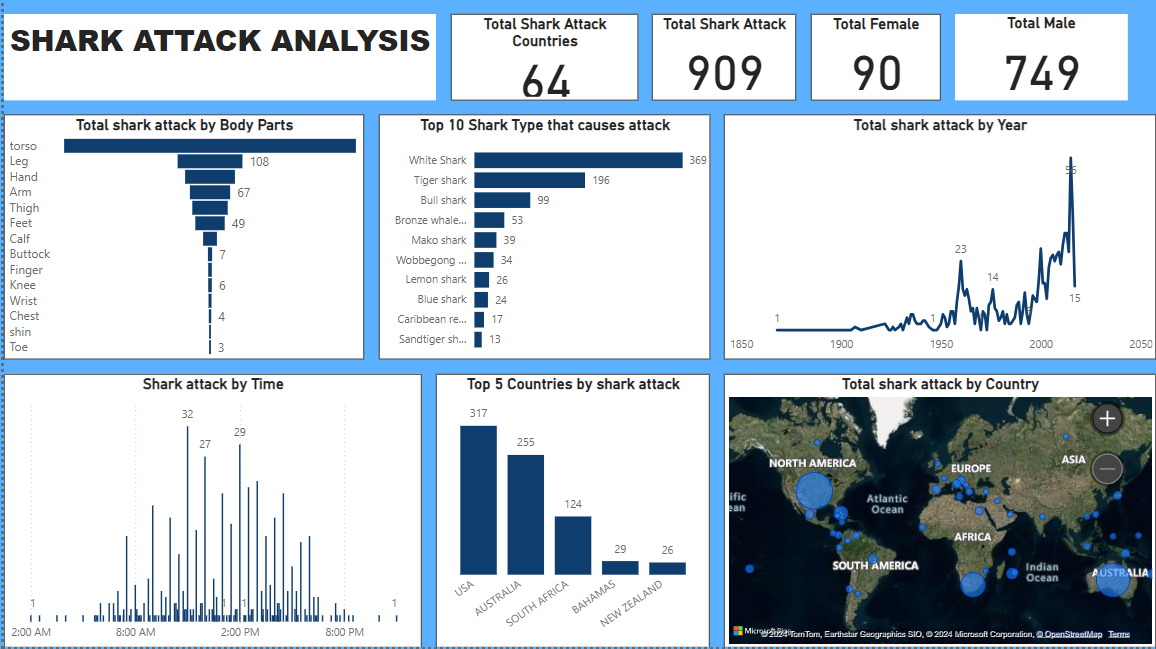

This screenshot's page, from the dashboard's own definition file:
{"tool":"powerbi","page":{"name":"Page 1","canvas":[1280,720],"ordinal":0},"visuals":[{"type":"card","title":"Total Shark Attack","fields":{"Values":["DAX.Total shark attack"]},"box":[720,16,160,96],"z":0},{"type":"map","fields":{"Category":["attacks1.Country"],"Size":["DAX.Total shark attack"]},"box":[800,416,480,304],"z":1000},{"type":"lineChart","fields":{"Y":["DAX.Total shark attack"],"Category":["attacks1.Year"]},"box":[800,128,480,272],"z":2000},{"type":"card","title":"Total Shark Attack Countries","fields":{"Values":["Count(attacks1.Country)"]},"box":[496,16,208,96],"z":3000},{"type":"clusteredColumnChart","title":"Top 5 Countries by shark attack","fields":{"Category":["attacks1.Country"],"Y":["DAX.Total shark attack"]},"box":[480,416,304,304],"z":4000},{"type":"funnel","fields":{"Category":["attacks1.Body Parts"],"Y":["DAX.Total shark attack"]},"box":[0,128,400,272],"z":5000},{"type":"clusteredColumnChart","title":"Shark attack by Time","fields":{"Category":["attacks1.Parse"],"Y":["DAX.Total shark attack"]},"box":[0,416,464,304],"z":6000},{"type":"clusteredBarChart","title":"Top 10 Shark Type that causes attack","fields":{"Category":["attacks1.Shark Type"],"Y":["DAX.Total shark attack"]},"box":[416,128,368,272],"z":7000},{"type":"card","title":"Total Male","fields":{"Values":["DAX.total male"]},"box":[1056,16,192,96],"z":8000},{"type":"card","title":"Total Female","fields":{"Values":["DAX.Total Female"]},"box":[896,16,144,96],"z":9000},{"type":"textbox","box":[0,16,480,96],"z":9001}]}

Visuals, with their boxes in screenshot pixels (x1, y1, x2, y2), scaled from the page's 1280x720 canvas onto the 1156x649 screenshot:
"Total Shark Attack" card: <box>650,14,795,101</box>
map - attacks1.Country x DAX.Total shark attack: <box>722,375,1155,648</box>
lineChart - DAX.Total shark attack x attacks1.Year: <box>722,115,1155,361</box>
"Total Shark Attack Countries" card: <box>448,14,636,101</box>
"Top 5 Countries by shark attack" clusteredColumnChart: <box>434,375,708,648</box>
funnel - attacks1.Body Parts x DAX.Total shark attack: <box>0,115,361,361</box>
"Shark attack by Time" clusteredColumnChart: <box>0,375,419,648</box>
"Top 10 Shark Type that causes attack" clusteredBarChart: <box>376,115,708,361</box>
"Total Male" card: <box>954,14,1127,101</box>
"Total Female" card: <box>809,14,939,101</box>
textbox: <box>0,14,434,101</box>
